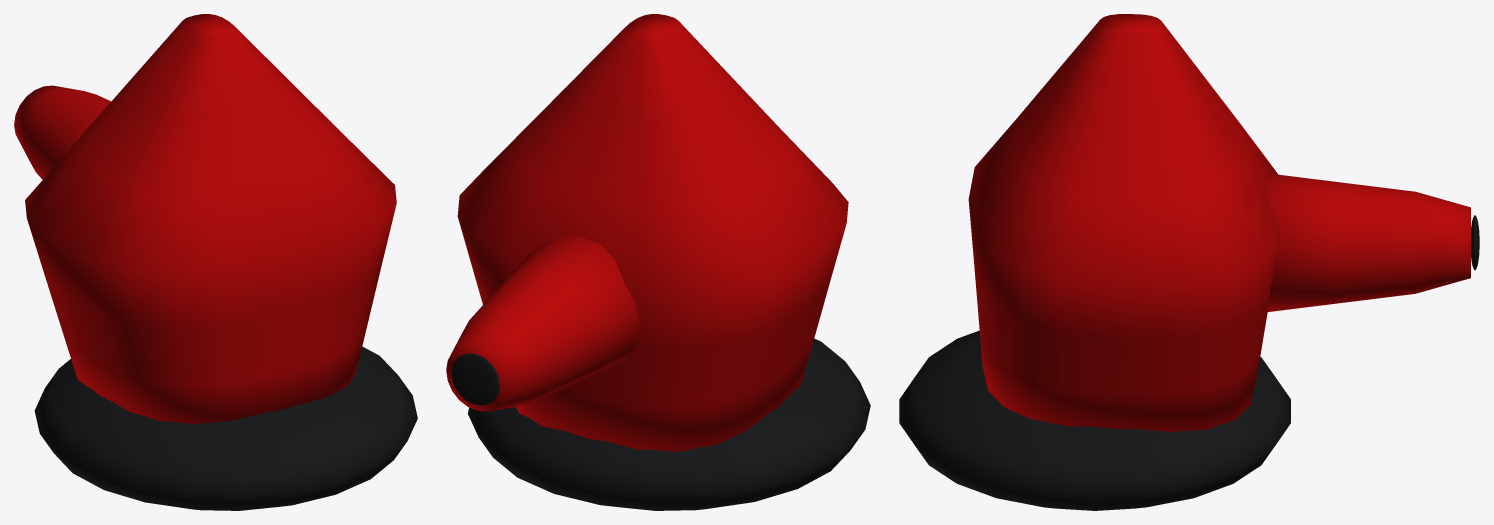
Rendered from GasTurret.glb.
The picture shows the model from 3 angles, left to right: view 1: azimuth 30°, elevation 25°; view 2: azimuth 150°, elevation 25°; view 3: azimuth 270°, elevation 25°; orthographic projection. The views are drawn at different scales.
Parts seen in each view (by area): view 1: Body, Weapon; view 2: Body, Weapon; view 3: Body, Weapon.
Part boxes in pixels (bbox=[...]): Body: bbox=[25, 14, 417, 510]; Weapon: bbox=[14, 85, 110, 179]; Body: bbox=[457, 14, 870, 510]; Weapon: bbox=[446, 235, 639, 411]; Body: bbox=[899, 14, 1290, 510]; Weapon: bbox=[1266, 173, 1479, 312].
Bounding box in the file's own units: 0.6314 × 0.784 × 0.9261.
1 material, 1 textured.
